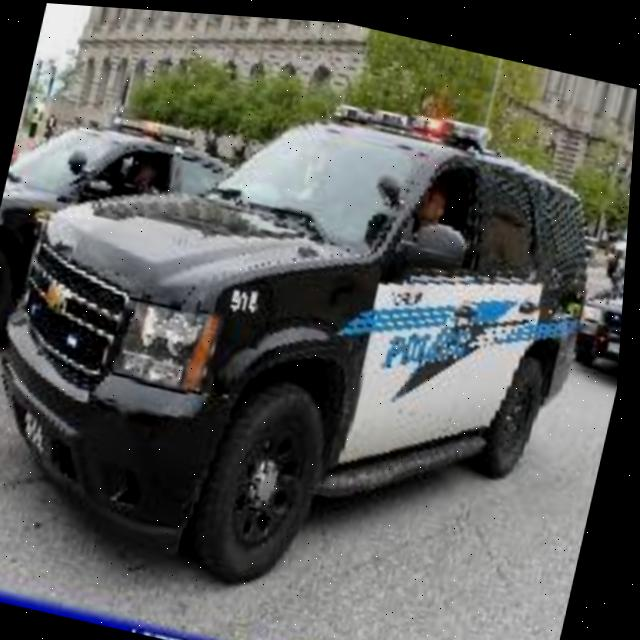emergency: (0, 42, 631, 576)
